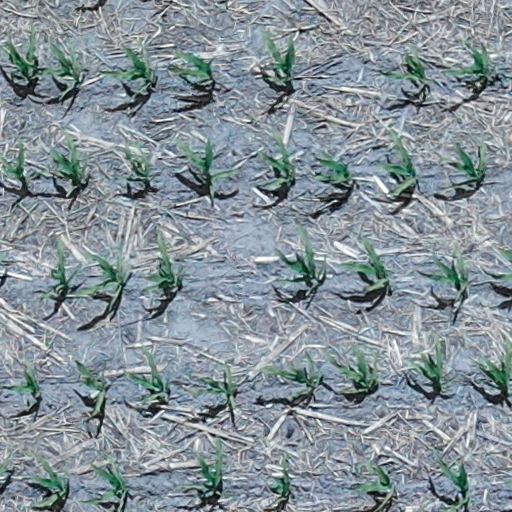planta: (275, 225, 325, 295), (95, 39, 153, 96), (182, 360, 241, 415), (168, 137, 239, 182), (73, 252, 127, 311), (374, 126, 417, 197), (258, 352, 322, 398), (173, 434, 224, 491), (341, 234, 389, 294), (140, 231, 183, 296), (81, 452, 128, 511), (21, 450, 69, 507), (31, 130, 83, 181), (39, 240, 80, 304), (326, 344, 378, 394), (122, 348, 169, 403), (432, 133, 487, 180), (409, 334, 457, 387), (254, 130, 296, 187), (417, 246, 470, 290), (30, 39, 84, 79), (74, 359, 108, 416), (440, 38, 490, 76), (260, 28, 295, 82), (379, 43, 426, 83), (165, 50, 213, 85), (343, 459, 392, 492), (121, 144, 152, 182), (311, 154, 351, 183), (267, 459, 291, 506)
